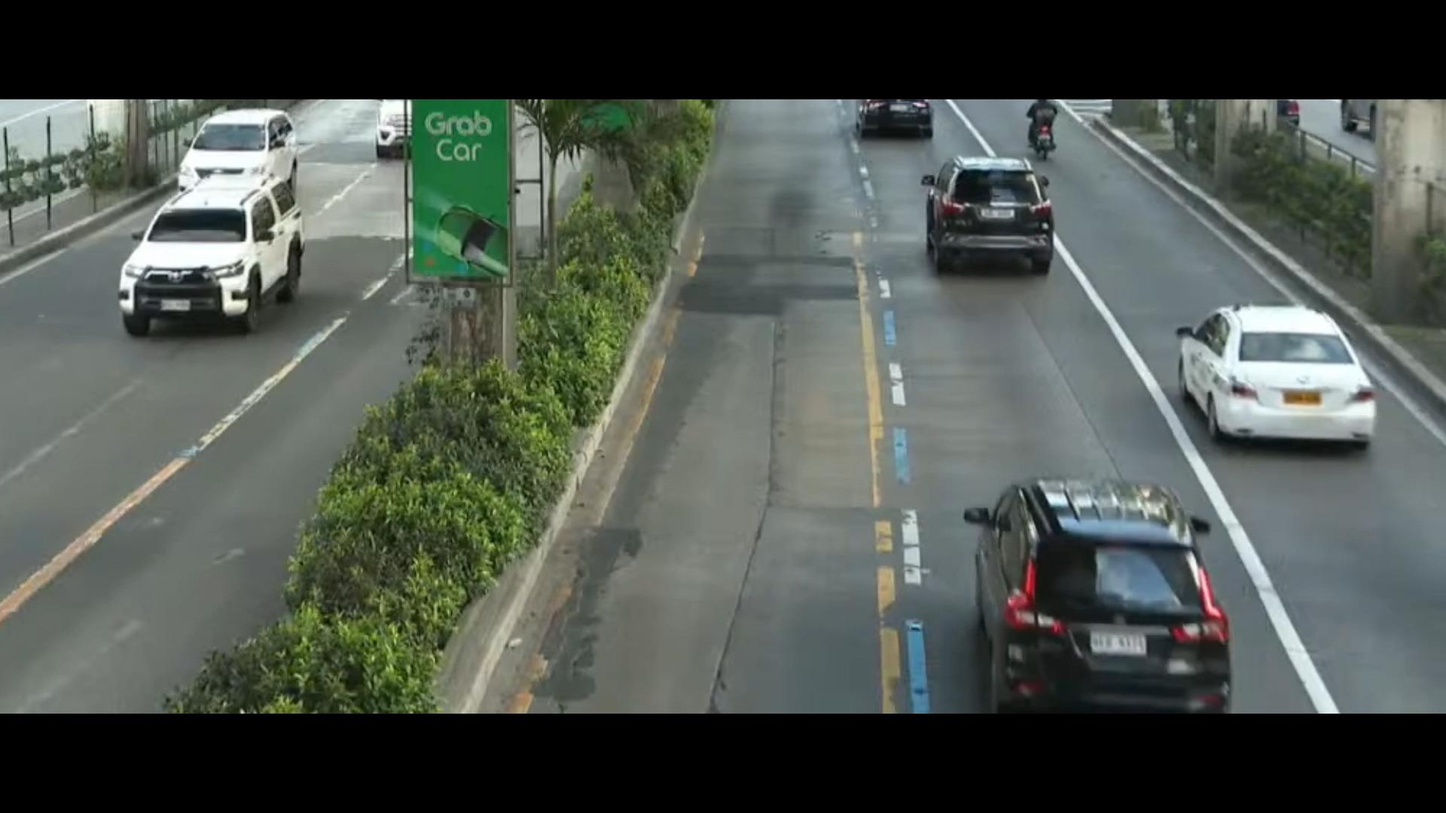Motorcycle: (1020, 104, 1075, 164)
SUV: (961, 439, 1256, 712), (119, 172, 324, 338), (898, 143, 1083, 295), (161, 104, 302, 201)
Sedan: (1149, 279, 1379, 486)
